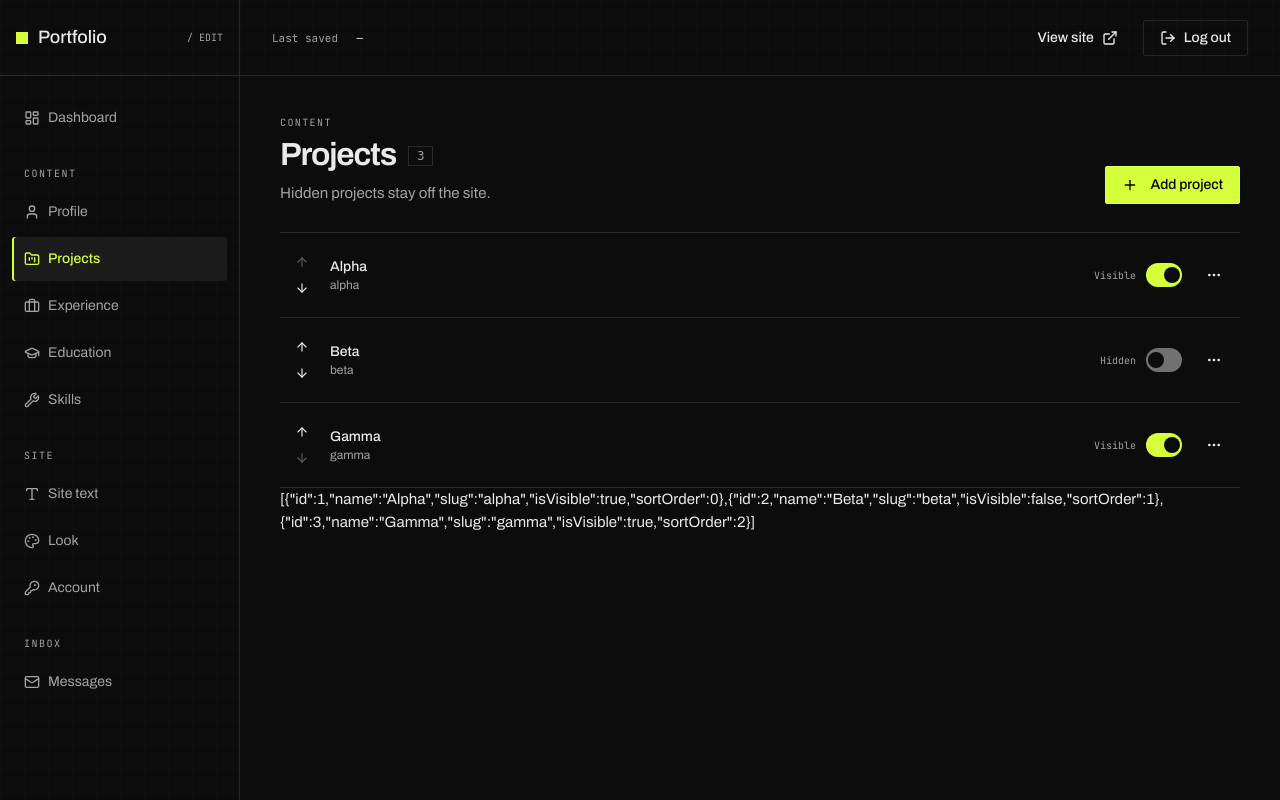
Test case: ListEditor › Delete asks first; Cancel sends nothing; confirm sends DELETE and removes the row
What coordinates should you click on to do the following:
click the button named "Actions for Alpha"
I would click on:
 (1214, 275)
Its box is left=1196, top=257, right=1232, bottom=293.
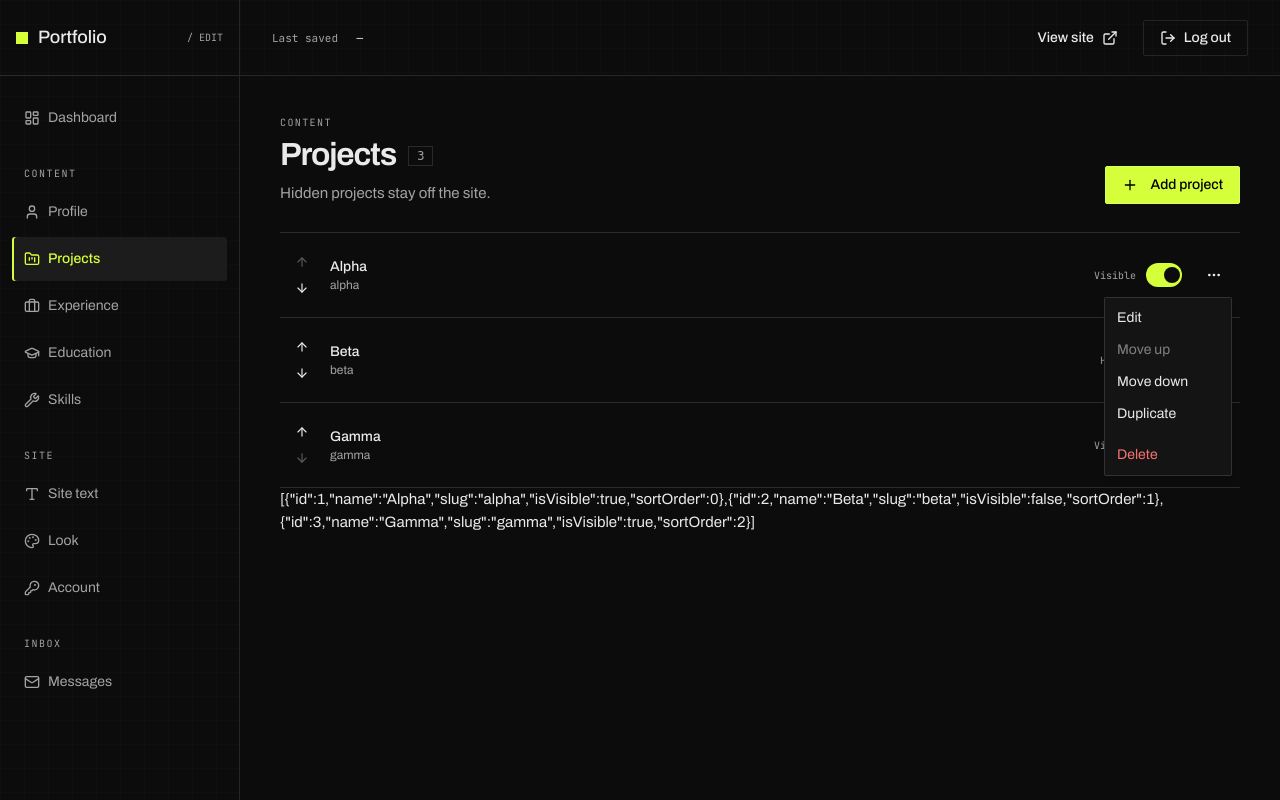
What coordinates should you click on to do the following:
click the menu item "Delete"
I would click on:
 (1137, 454)
Its box is left=1117, top=447, right=1158, bottom=462.
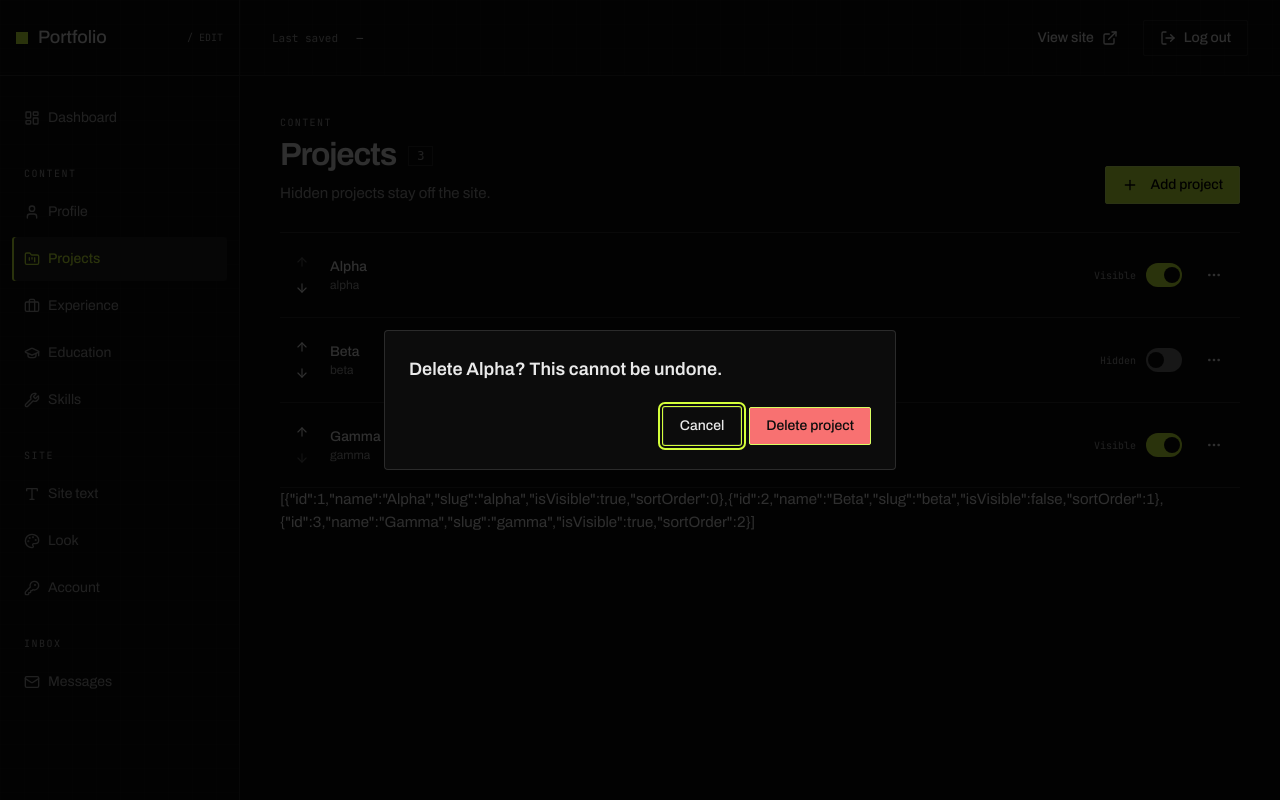
Now the heading "Delete Alpha? This cannot be undone." is shown, box left=409, top=359, right=722, bottom=379
What coordinates should you click on to do the following:
click the button "Cancel"
I would click on:
 (702, 426)
Its box is left=663, top=407, right=741, bottom=445.
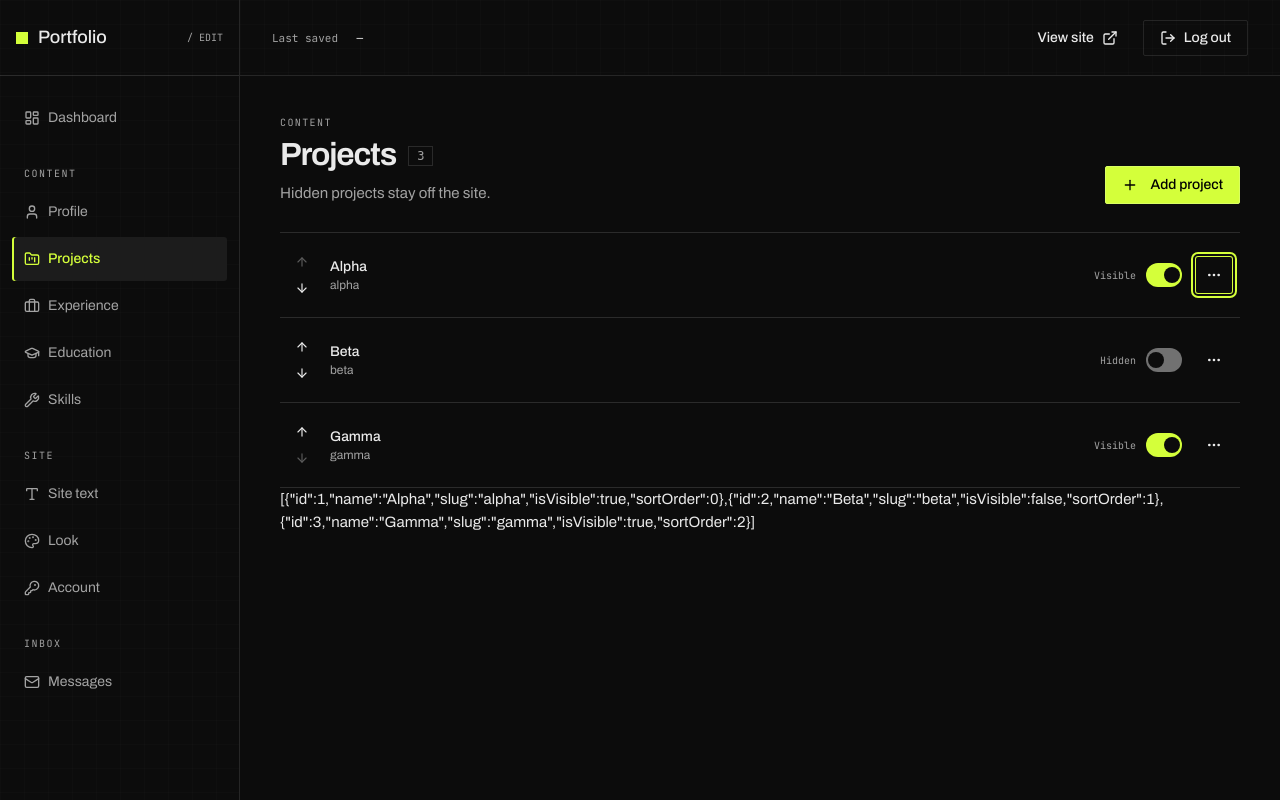
What coordinates should you click on to do the following:
click the button named "Actions for Alpha"
I would click on:
 (1214, 275)
Its box is left=1196, top=257, right=1232, bottom=293.
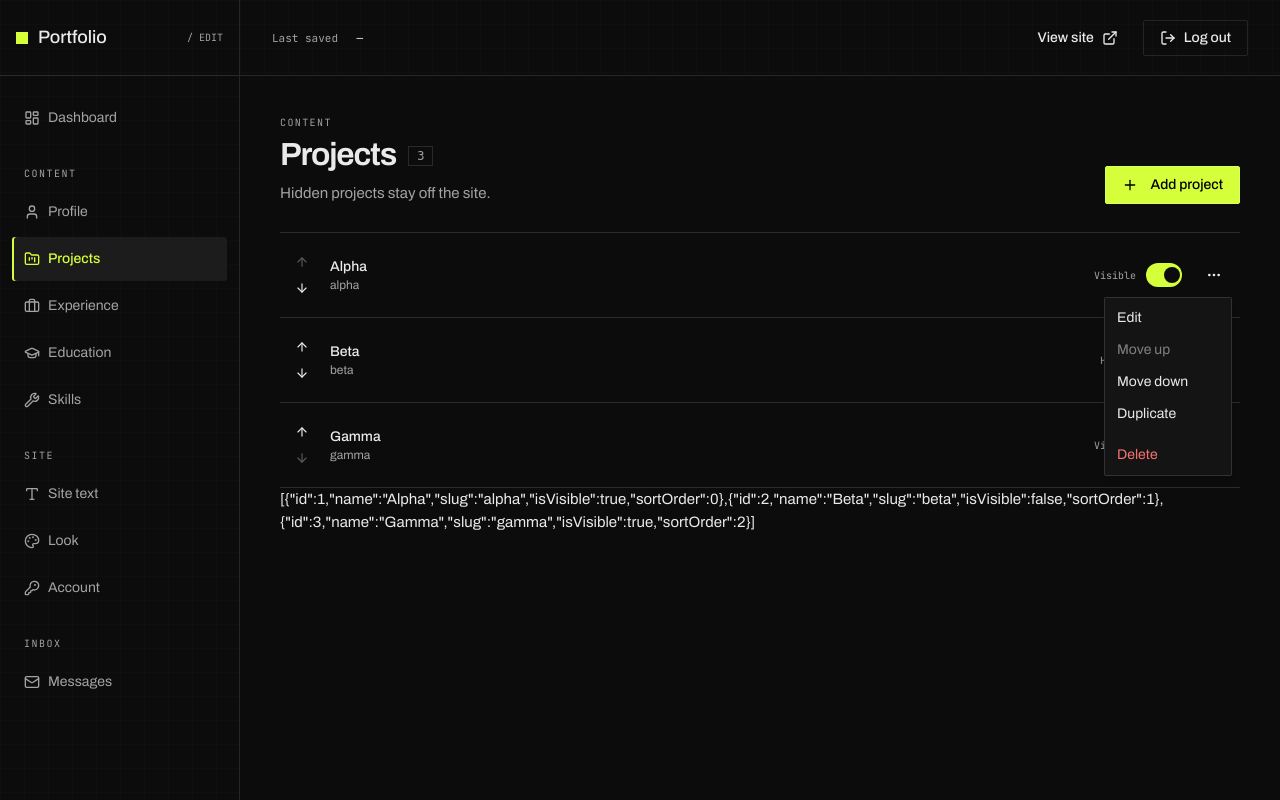
What coordinates should you click on to do the following:
click the menu item "Delete"
I would click on:
 (1137, 454)
Its box is left=1117, top=447, right=1158, bottom=462.
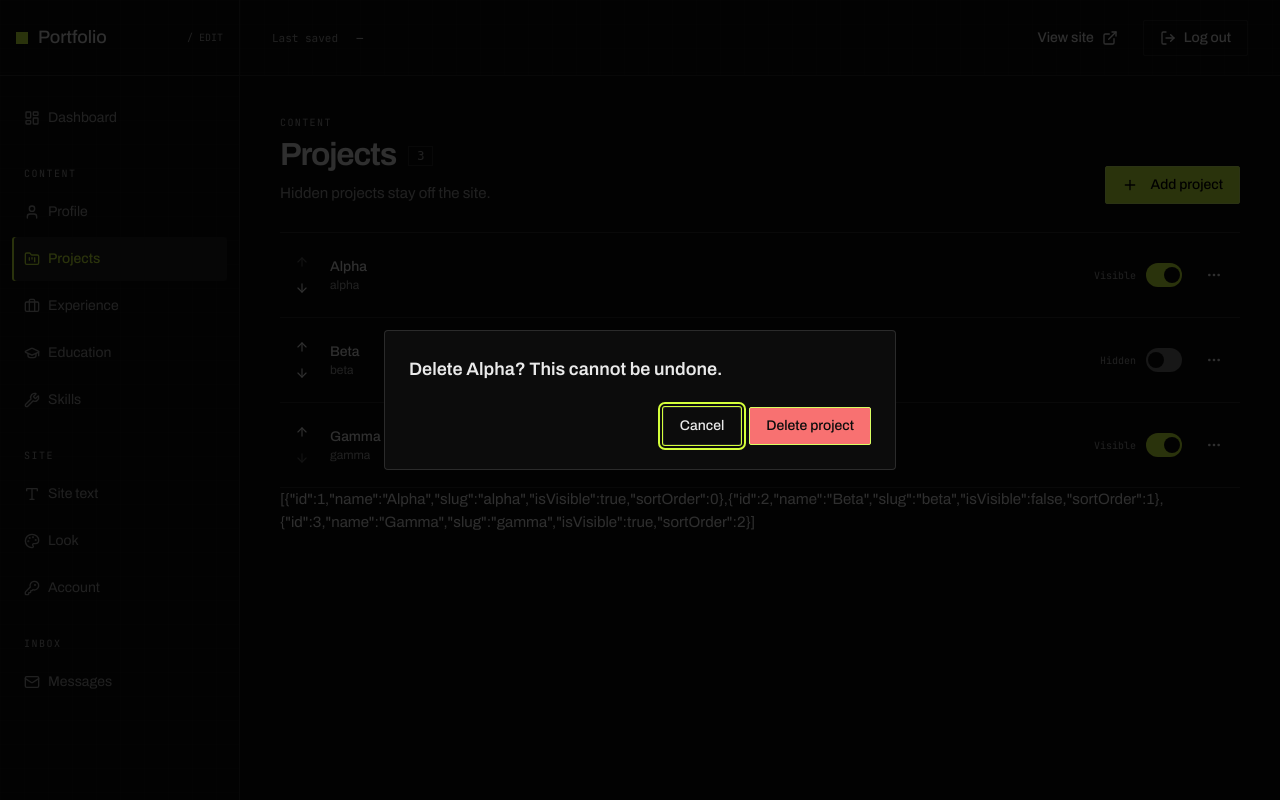
What coordinates should you click on to do the following:
click the button "Delete project"
I would click on:
 (810, 426)
Its box is left=749, top=407, right=871, bottom=445.
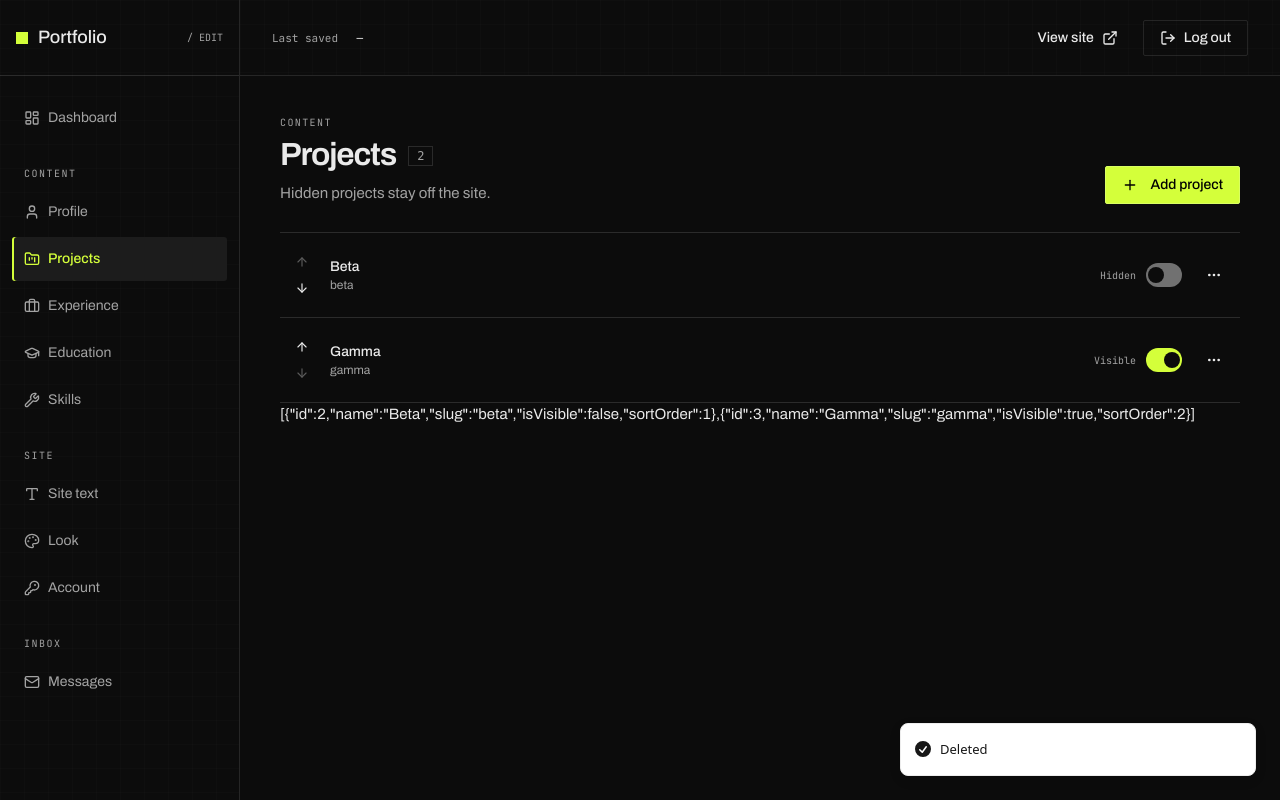
Now the button "Alpha" is gone
